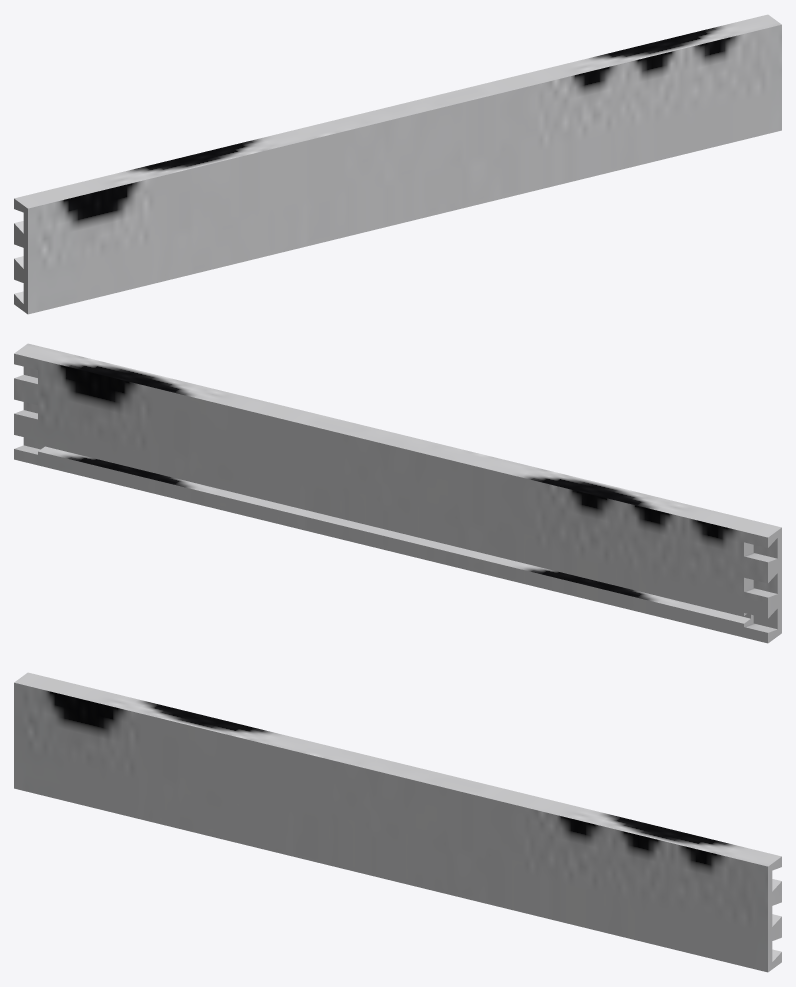
Rendered from original-88.obj.
3 renders of one model, top to bottom at view 1: azimuth 30°, elevation 25°; view 2: azimuth 150°, elevation 25°; view 3: azimuth 330°, elevation 25°, orthographic.
Visible parts, largest first — view 1: Façadecomplet2/Façadecomplet12/mesh21/mesh21-geometry#mesh21-geo; view 2: Façadecomplet2/Façadecomplet12/mesh21/mesh21-geometry#mesh21-geo; view 3: Façadecomplet2/Façadecomplet12/mesh21/mesh21-geometry#mesh21-geo.
Part boxes in pixels (<box>): Façadecomplet2/Façadecomplet12/mesh21/mesh21-geometry#mesh21-geo: <box>14,14,781,314</box>; Façadecomplet2/Façadecomplet12/mesh21/mesh21-geometry#mesh21-geo: <box>14,343,781,643</box>; Façadecomplet2/Façadecomplet12/mesh21/mesh21-geometry#mesh21-geo: <box>14,672,781,972</box>.
Bounding box in the file's own units: 0.3429 × 0.046 × 0.011.
